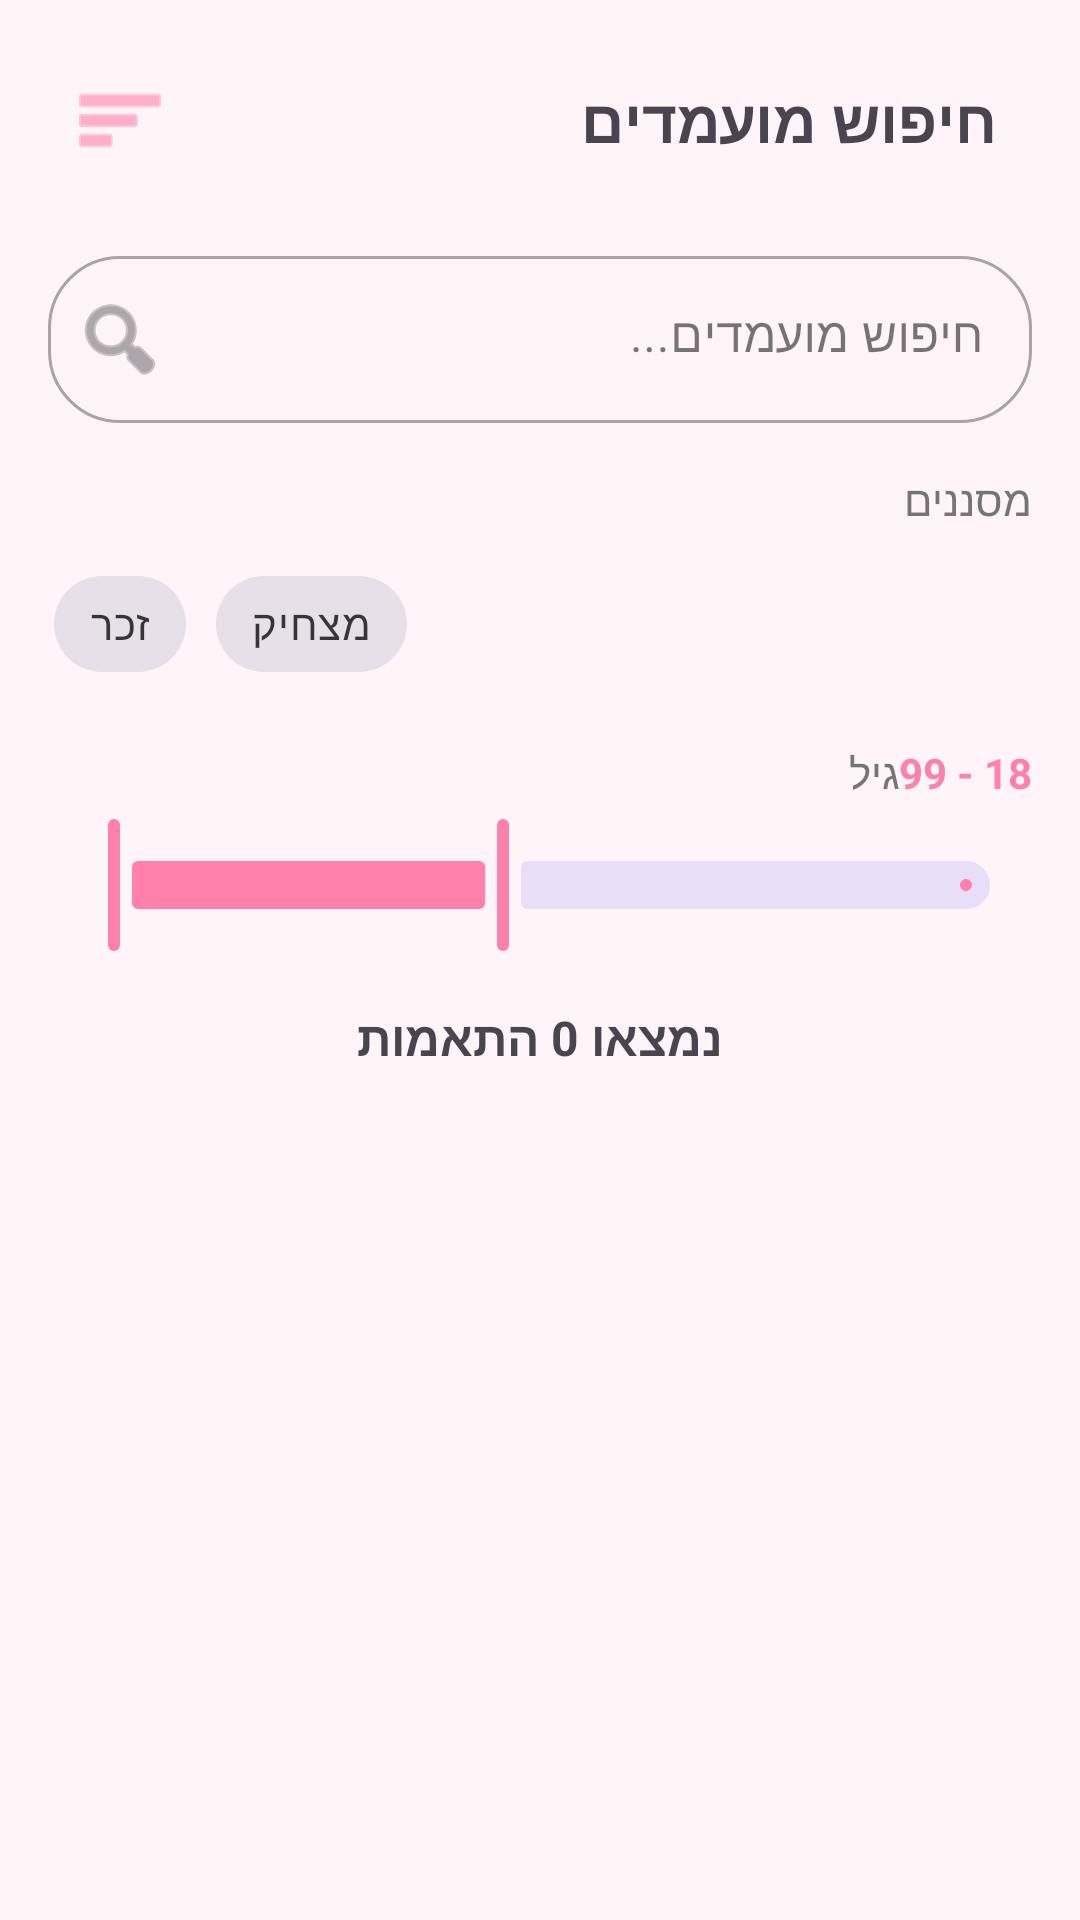

Icons on this 1080x1920 Android screen, each with the point to tap as [x,y]:
sort by size: [120,120]
